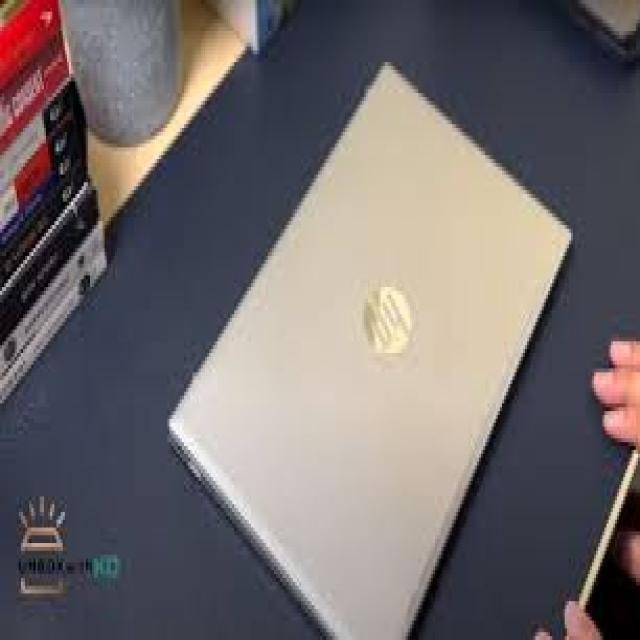laptop: (165, 58, 573, 636)
